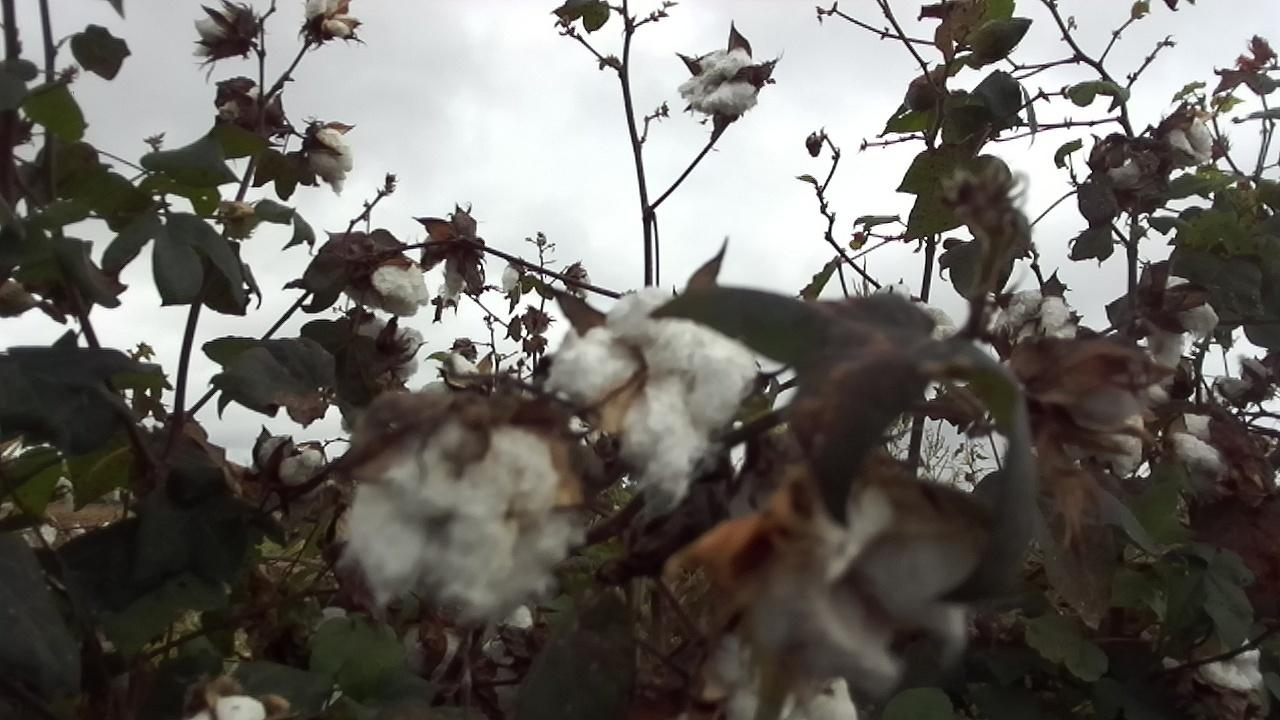cotton_ready: (542, 280, 761, 513), (743, 472, 974, 692), (337, 420, 577, 625), (1046, 348, 1174, 482), (714, 629, 857, 720), (1143, 270, 1216, 373), (0, 438, 79, 520), (866, 282, 958, 350), (990, 289, 1078, 355), (677, 49, 760, 117), (354, 254, 430, 318), (1172, 406, 1235, 475), (1195, 637, 1265, 694), (257, 435, 324, 490), (304, 122, 355, 190), (192, 6, 250, 62), (1160, 113, 1213, 163), (182, 693, 279, 720), (304, 0, 359, 42)
